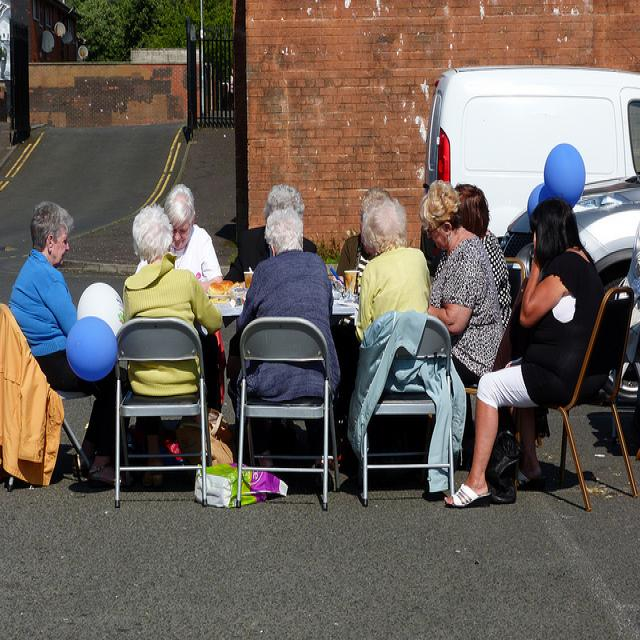chair: (539, 292, 640, 513), (347, 315, 456, 505), (236, 316, 341, 510), (0, 301, 97, 493), (115, 322, 210, 508), (463, 275, 530, 396), (503, 257, 525, 309)
dining table: (206, 281, 293, 316), (293, 281, 361, 318)
